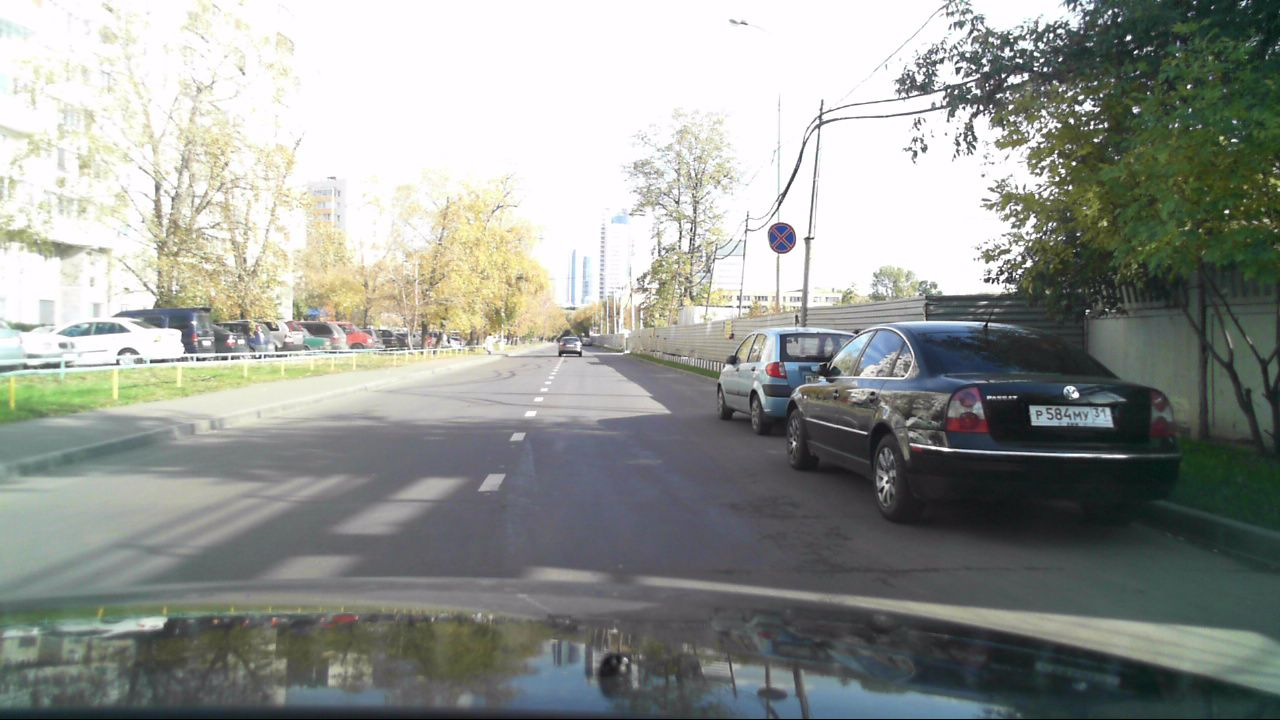No Parking: (765, 221, 797, 255)
